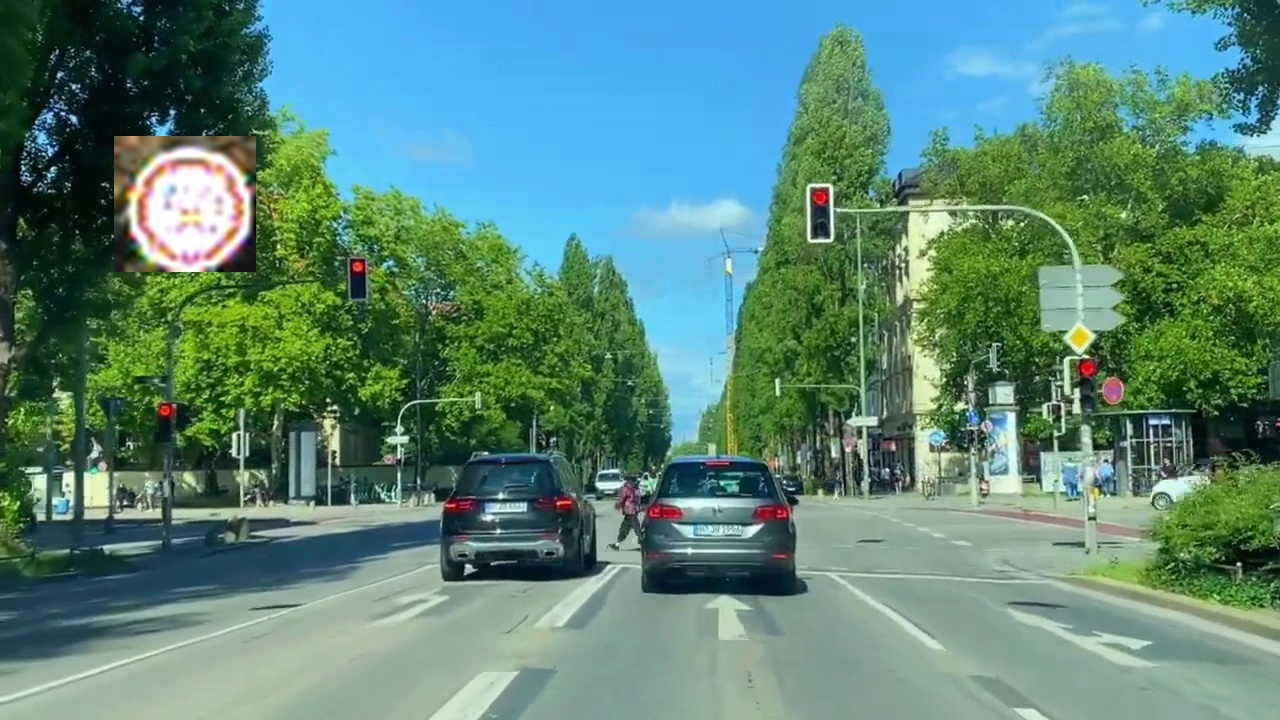Speed 50: (114, 136, 256, 272)
